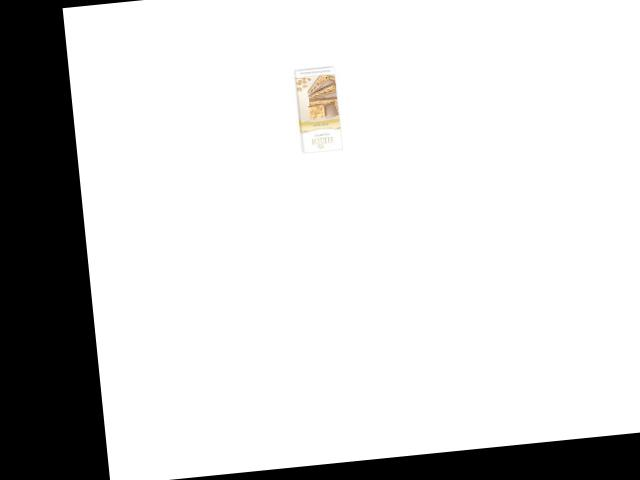chocolate: (277, 62, 351, 160)
